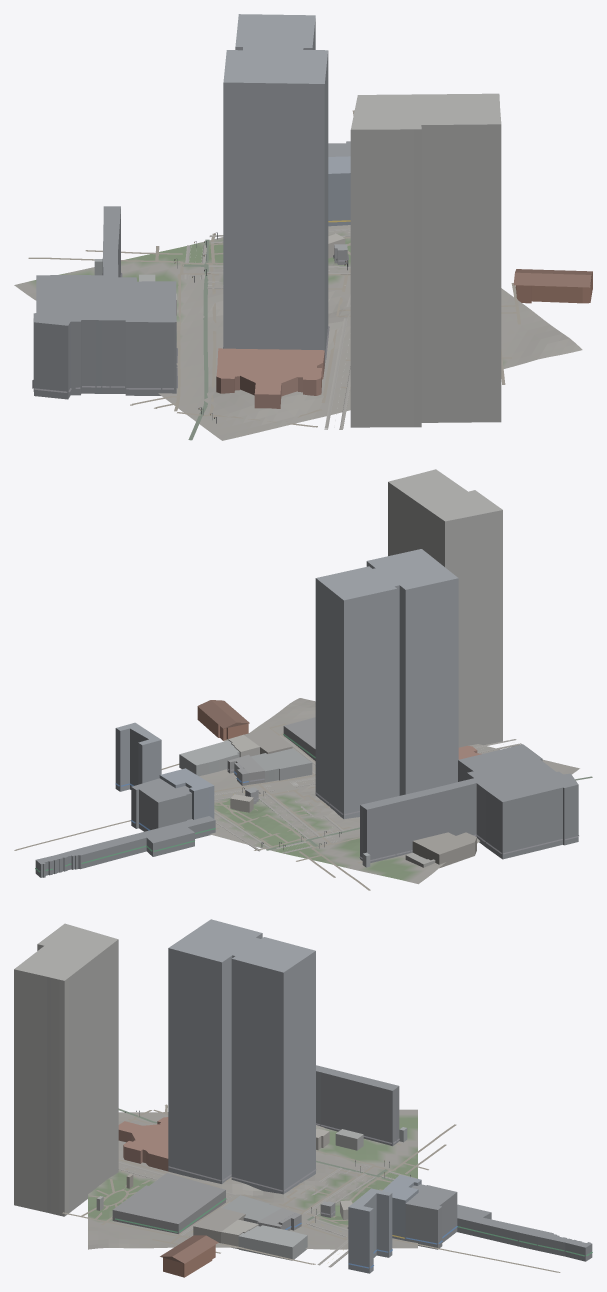
File: tile_-3_1.glb
The picture shows the model from 3 angles, top to bottom: view 1: azimuth 30°, elevation 25°; view 2: azimuth 150°, elevation 25°; view 3: azimuth 270°, elevation 25°; orthographic projection. The views are drawn at different scales.
Visible parts, largest first — view 1: buildings, terrain, paths, sidewalks; view 2: buildings, terrain, paths, sidewalks, awnings; view 3: buildings, terrain, paths, sidewalks, awnings.
Part boxes in pixels (bbox=[...]): buildings: bbox=[33, 14, 592, 427]; terrain: bbox=[14, 225, 582, 440]; paths: bbox=[28, 110, 520, 440]; sidewalks: bbox=[184, 228, 350, 429]; buildings: bbox=[35, 469, 578, 877]; terrain: bbox=[199, 698, 579, 884]; paths: bbox=[14, 723, 592, 890]; sidewalks: bbox=[214, 735, 521, 853]; awnings: bbox=[35, 734, 578, 872]; buildings: bbox=[14, 919, 592, 1277]; terrain: bbox=[88, 1109, 417, 1249]; paths: bbox=[62, 1104, 560, 1272]; sidewalks: bbox=[118, 1162, 416, 1267]; awnings: bbox=[115, 1123, 592, 1268].
Size of what is drawn, in the model's own units: 373 by 202 by 449.
